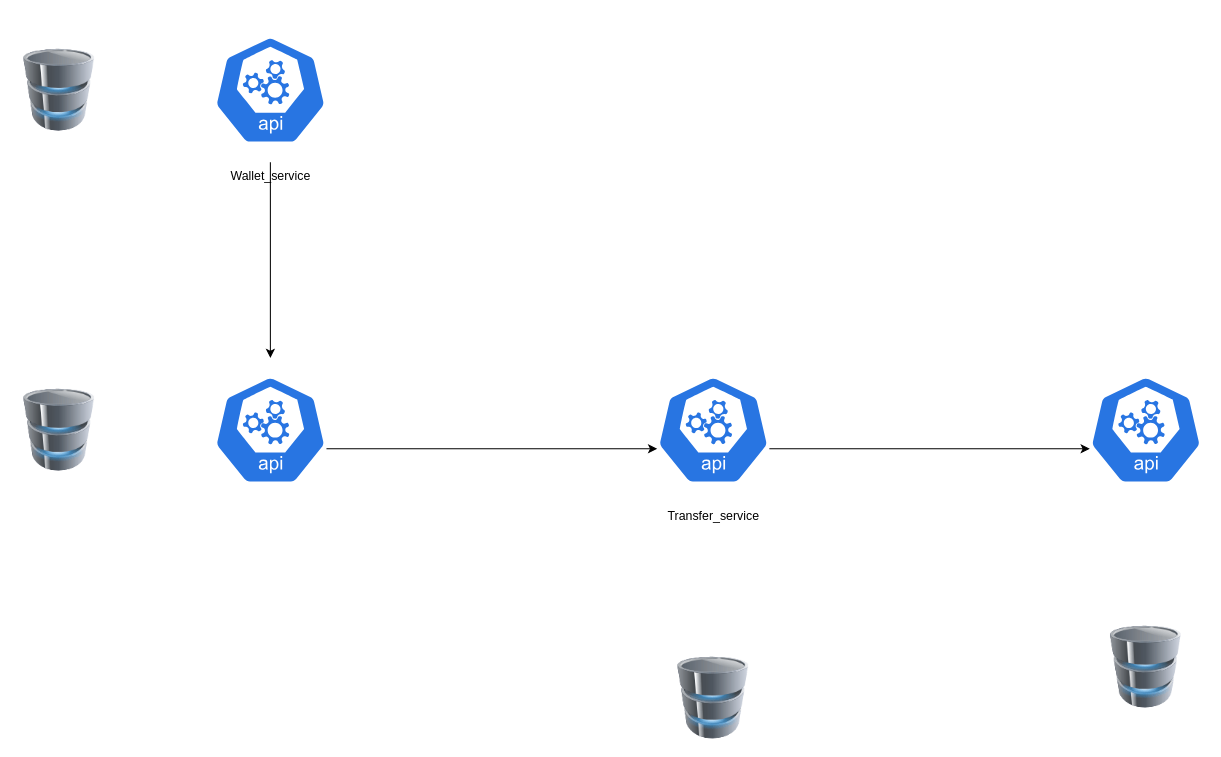
Some shapes in this 1221 by 757 pixel diagram are drawn without their labels. The centre of each missing label's shape, as x and y in pixels:
Customer_service: [270,429]
Transaction_service: [1145,429]
